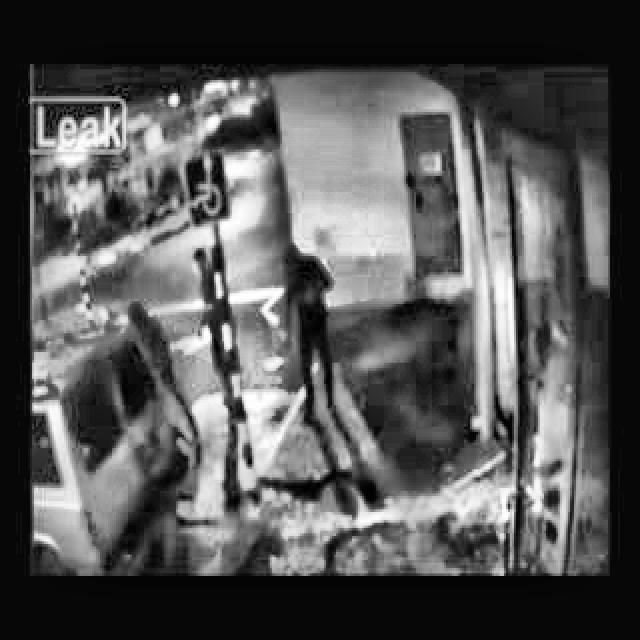burglary: (46, 240, 608, 574)
